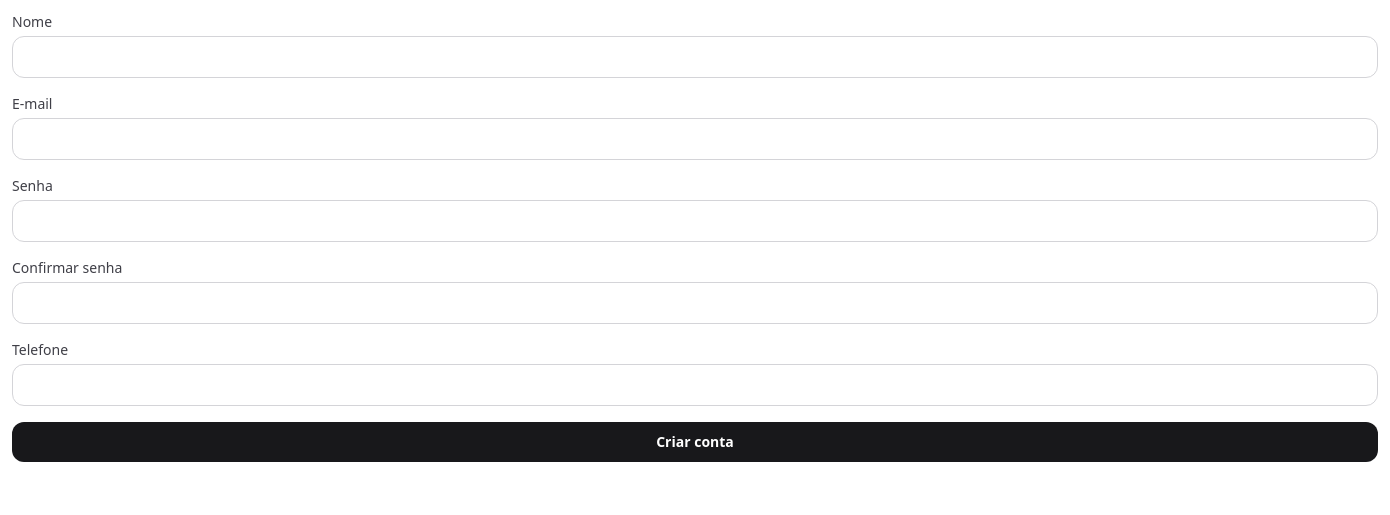
Test: SignupForm — Firebase error messages › too-many-requests shows Muitas tentativas.
Type "João Silva" into the field labelled "Nome" at (695, 57), box [12,36,1378,78]
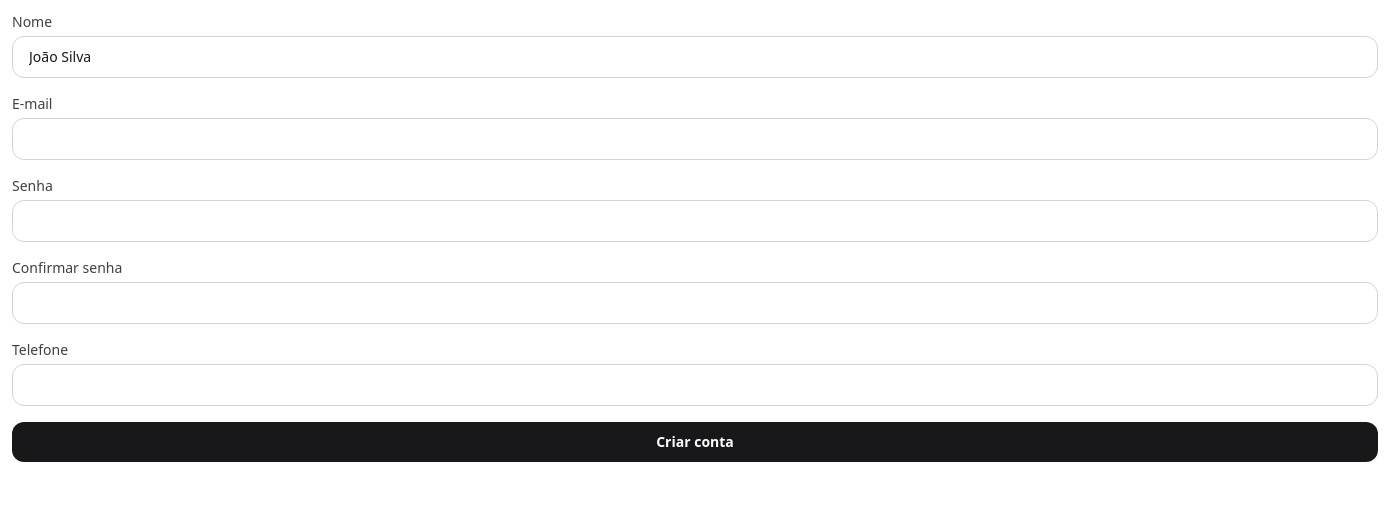
Type "joao@test.com" into the field labelled "E-mail" at (695, 139), box [12,118,1378,160]
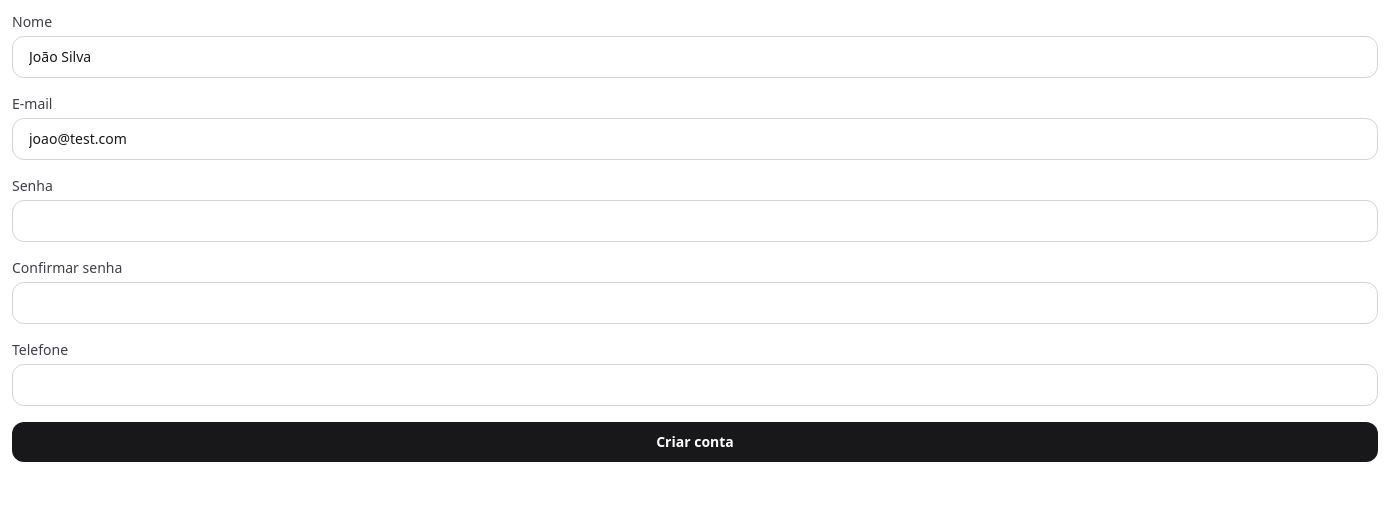
Type "pass123" into the password field labelled "Senha" at (695, 221), box [12,200,1378,242]
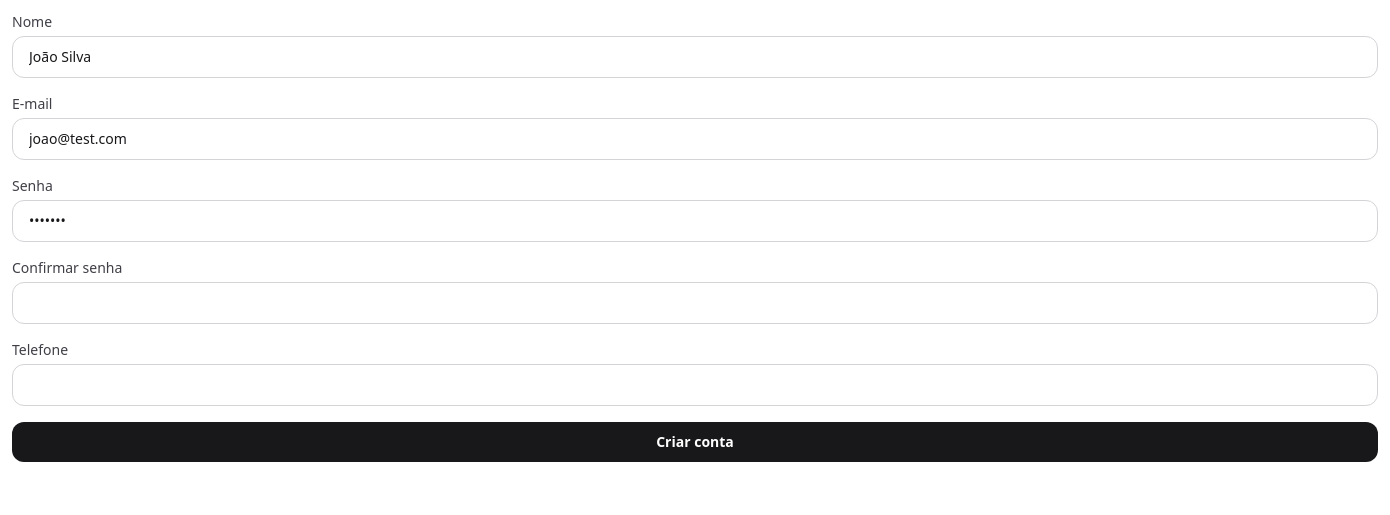
Type "pass123" into the password field labelled "Confirmar senha" at (695, 303), box [12,282,1378,324]
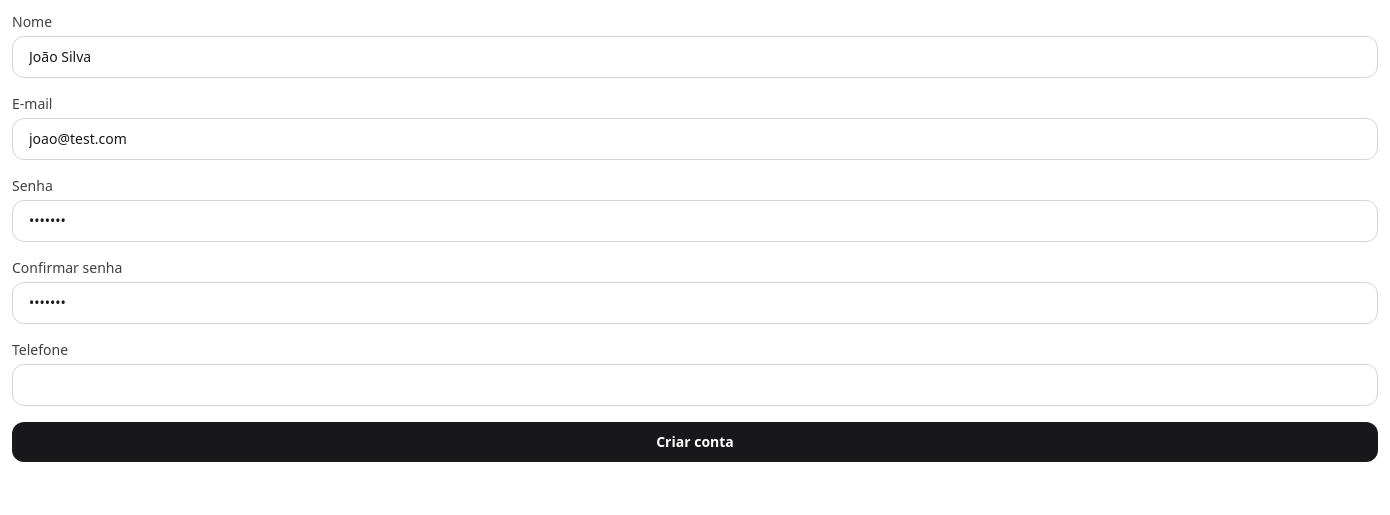
Click the button "Criar conta" at (695, 442), box [12,422,1378,462]
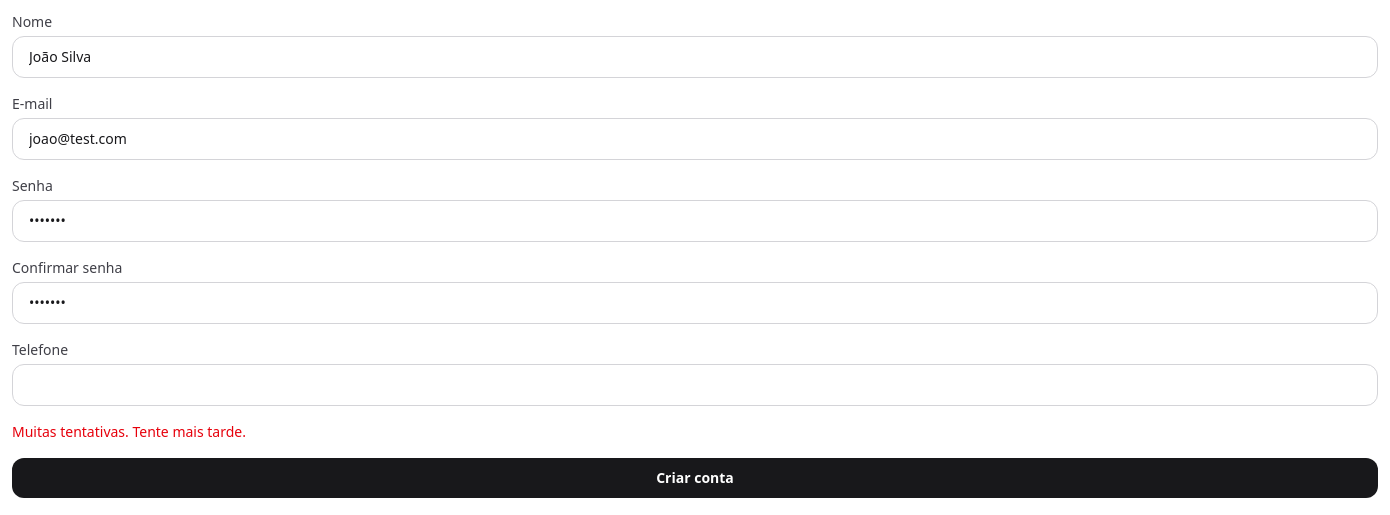
Check: the message shows "Muitas tentativas.", box [12,422,246,441]
